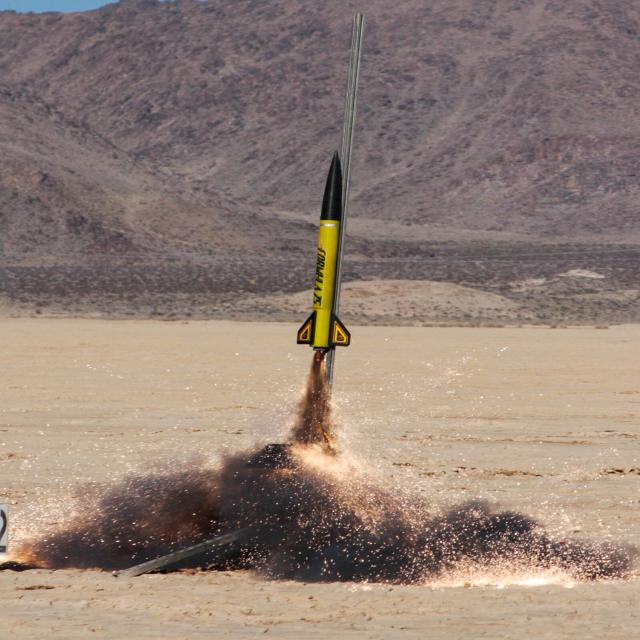Rocket: (295, 147, 352, 353)
